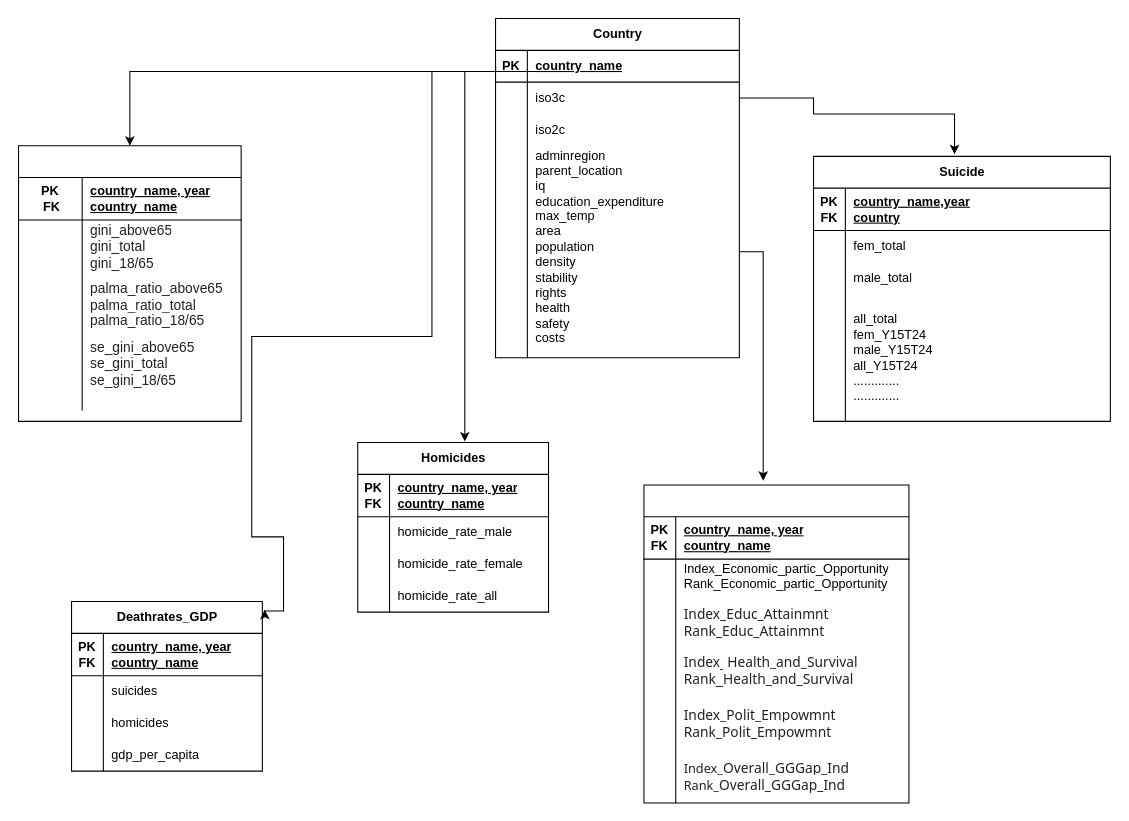
Image size: 1129x821. Some labels were removed from this diagram. The box of each missing label's shape, as (x1, y1, x2, y2) in pixels:
GenderGap: (643, 484, 909, 803)
IncomeDistribution: (17, 145, 241, 421)
